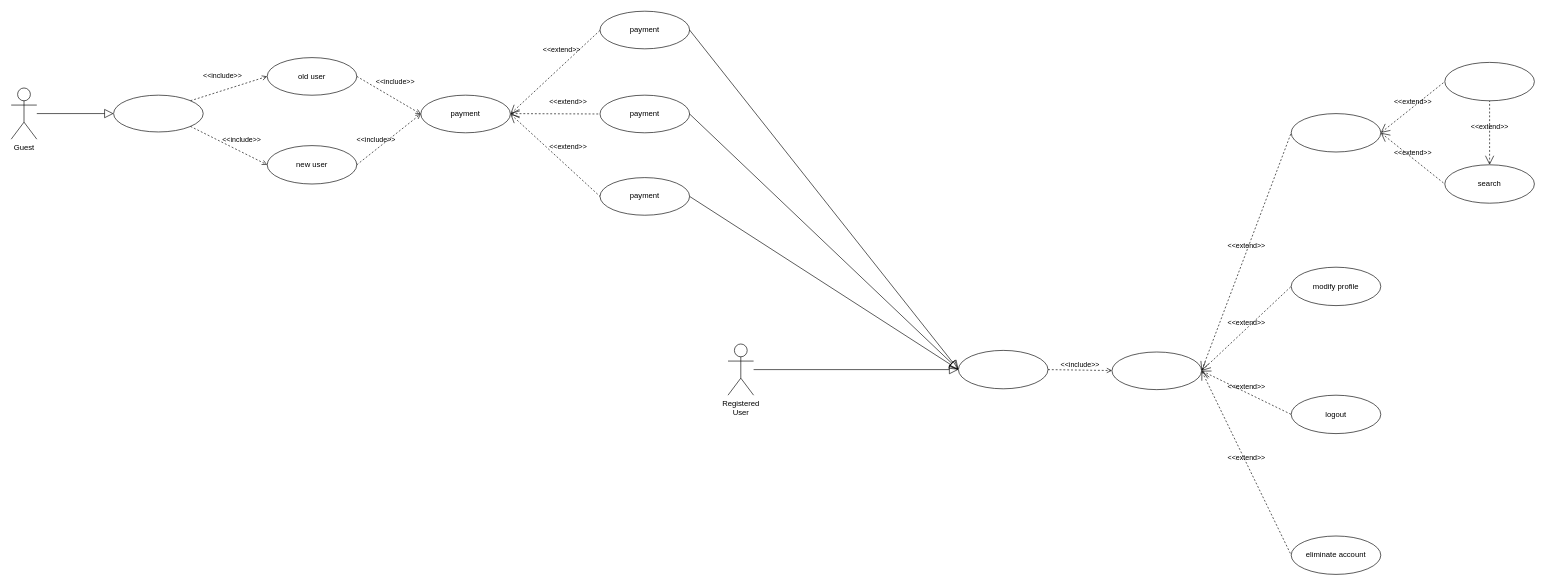
The diagram is 1546 pixels wide and 586 high, and some of its shapes have lost their labels. Here are the shapes that lost their labels. From the top down, the centre of each, then its label:
point (1489, 81): view content
point (158, 113): register
point (1336, 132): content choice
point (1003, 369): login
point (1156, 370): navigation
